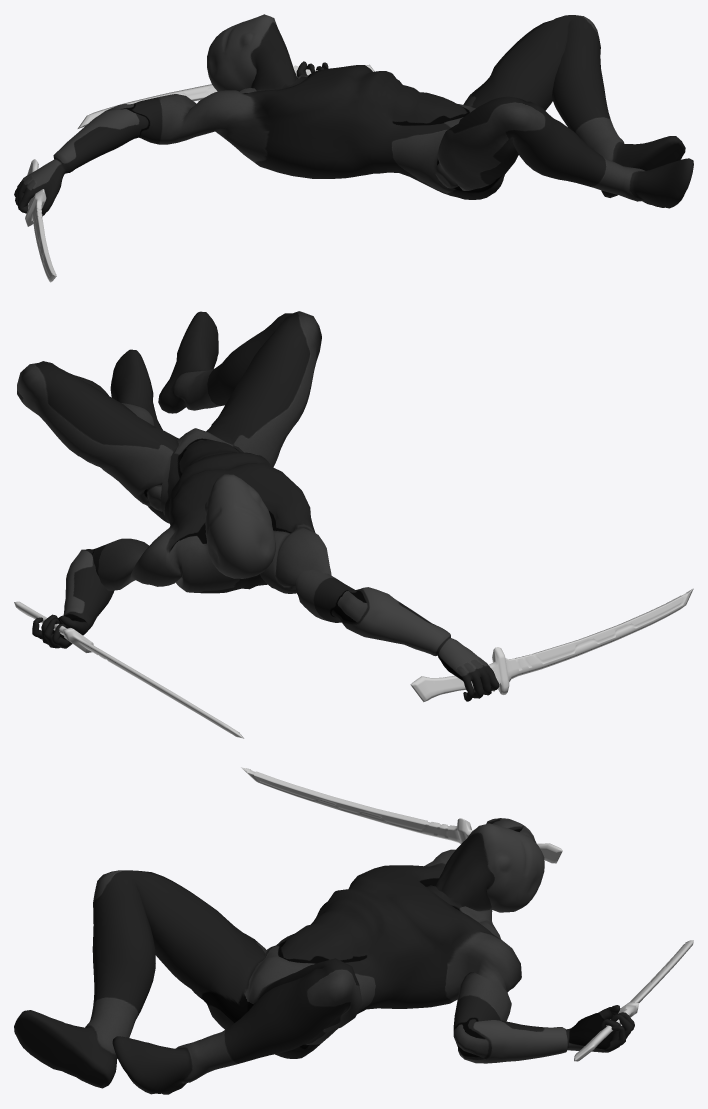
3 renders of one model, top to bottom at view 1: azimuth 30°, elevation 25°; view 2: azimuth 150°, elevation 25°; view 3: azimuth 270°, elevation 25°, orthographic. The views are drawn at different scales.
Parts seen in each view (by area): view 1: Cyborg_Ninja_Killer, Sword_l001, Sword_l; view 2: Cyborg_Ninja_Killer, Sword_l001, Sword_l; view 3: Cyborg_Ninja_Killer, Sword_l001, Sword_l.
Part boxes in pixels (x1,y1,x2,y2): Cyborg_Ninja_Killer: (14,14,693,216); Sword_l001: (25,159,56,282); Sword_l: (77,64,374,128); Cyborg_Ninja_Killer: (17,311,499,701); Sword_l001: (410,588,693,702); Sword_l: (14,601,244,738); Cyborg_Ninja_Killer: (14,818,634,1094); Sword_l001: (241,767,562,863); Sword_l: (574,940,693,1061).
Size of the model in its own units: 191 by 50.25 by 169.
